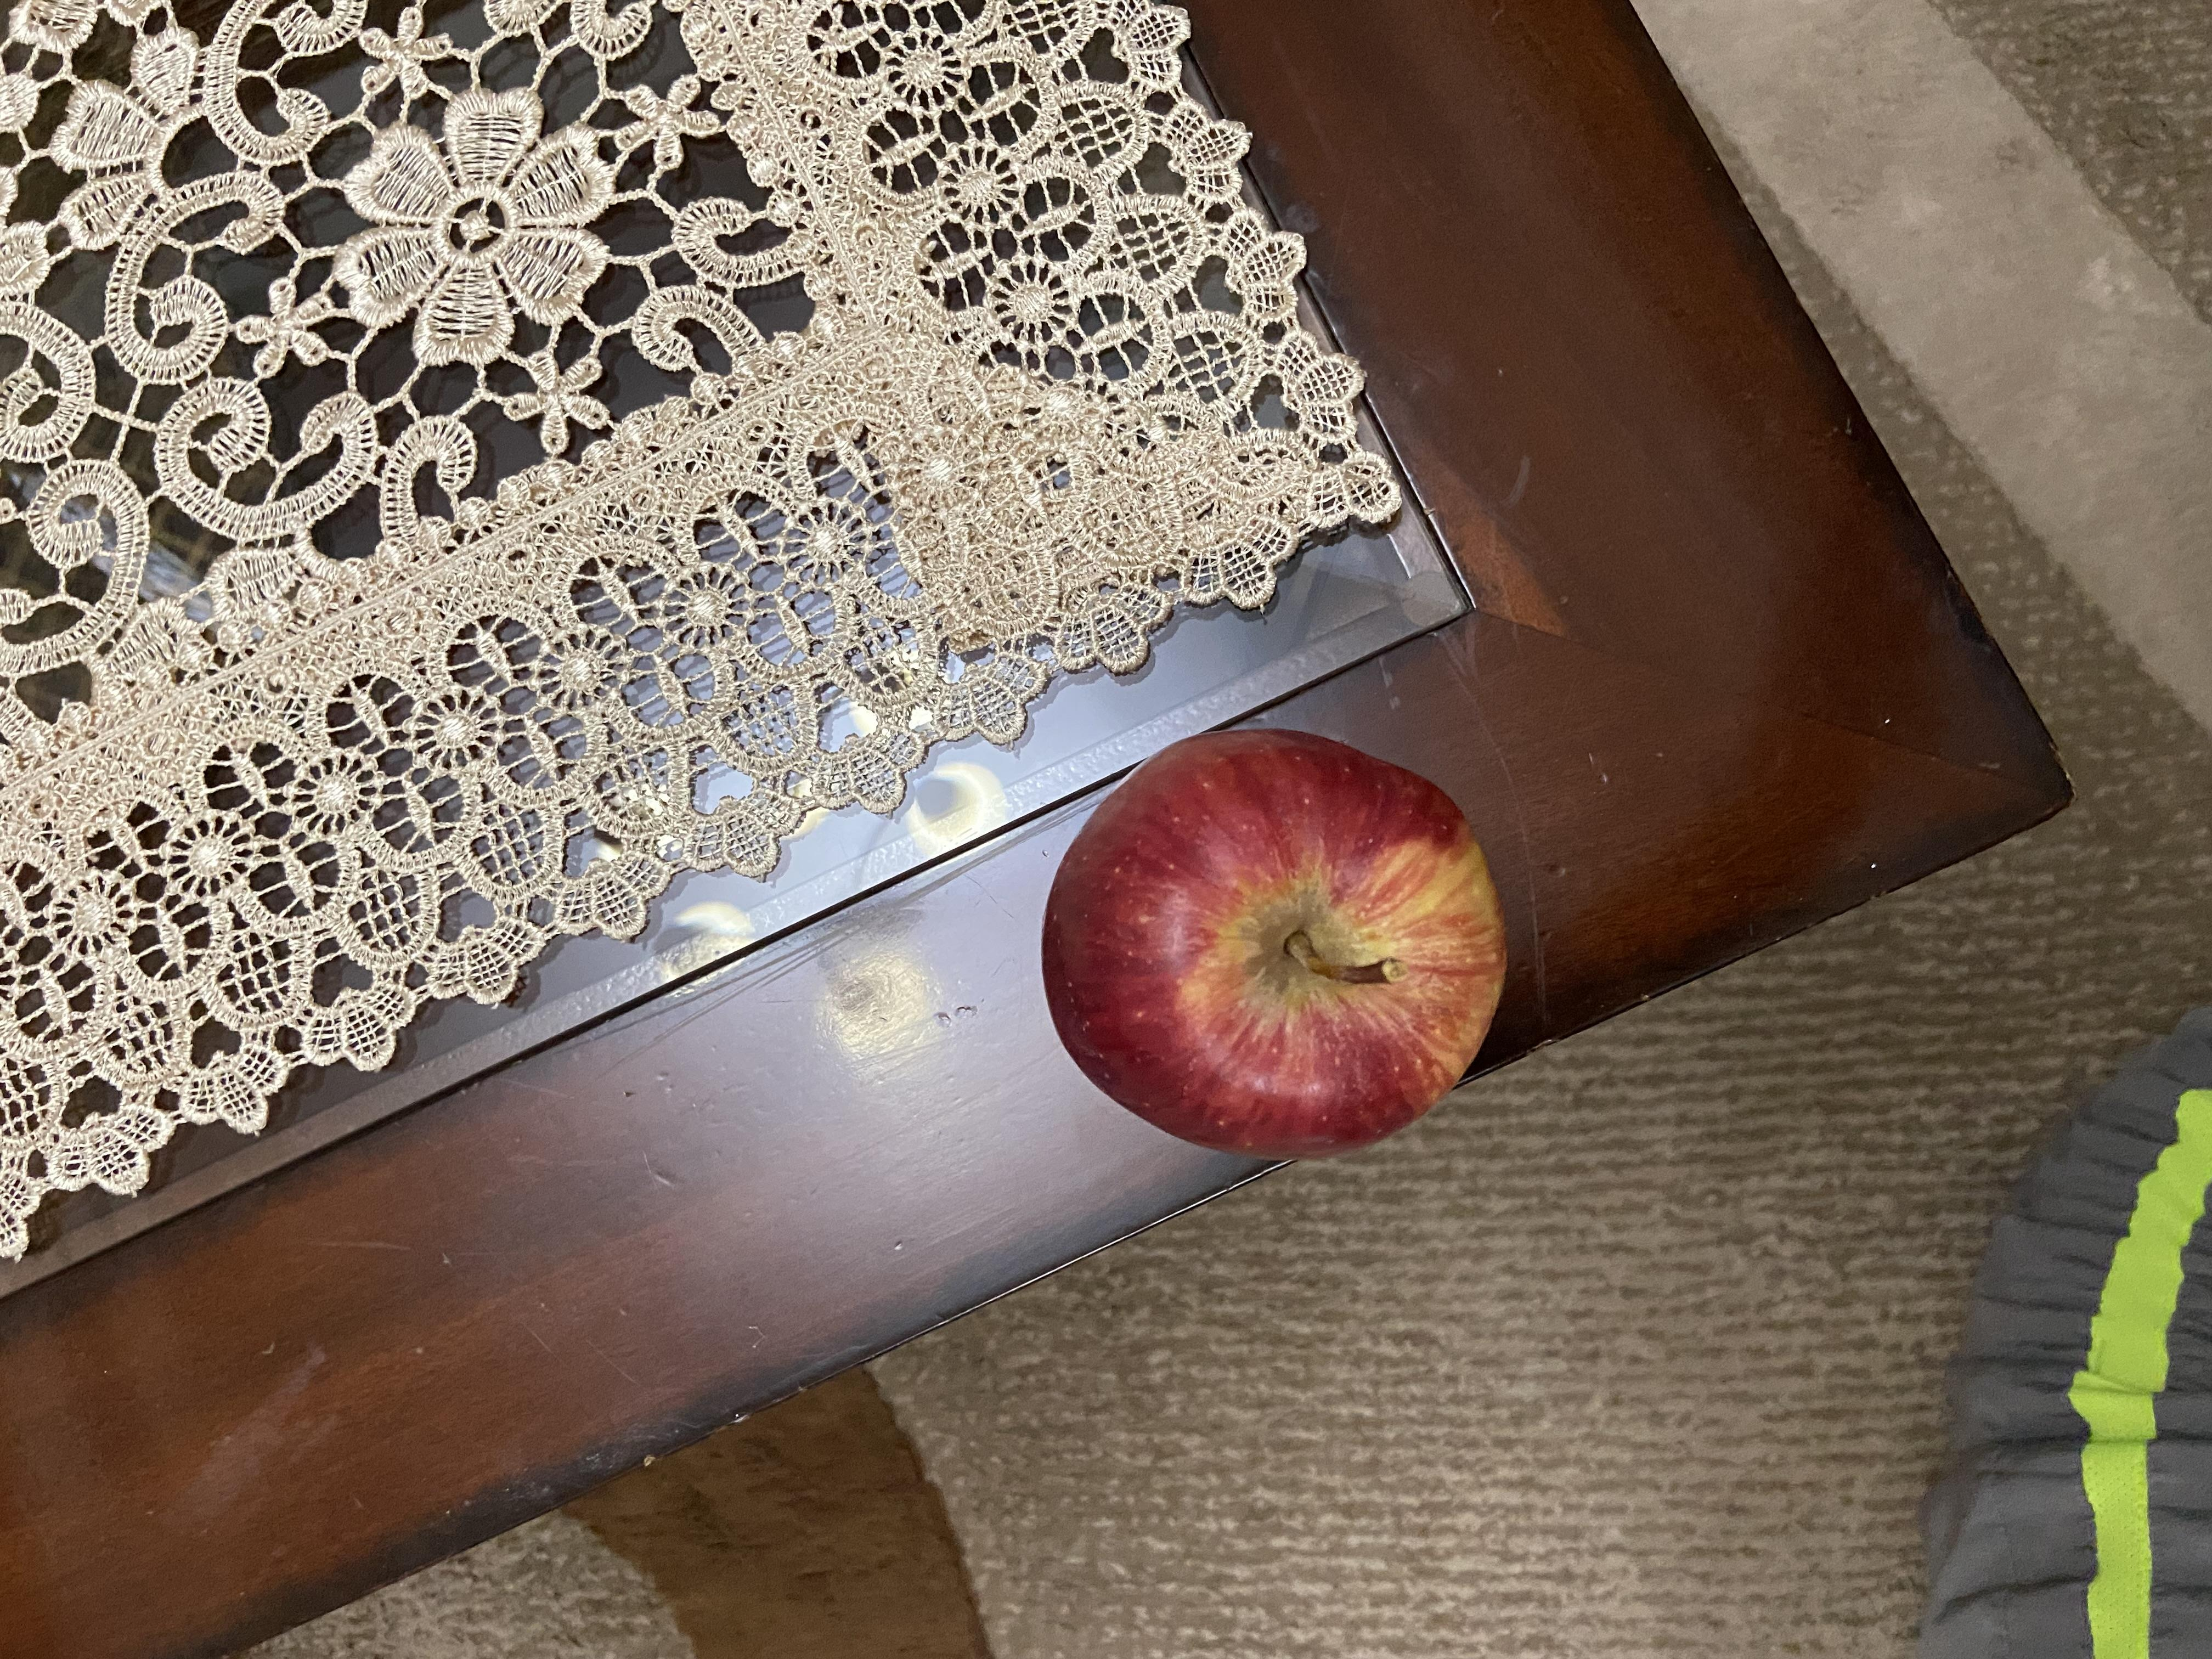Apple: (669, 774, 1252, 1131)
